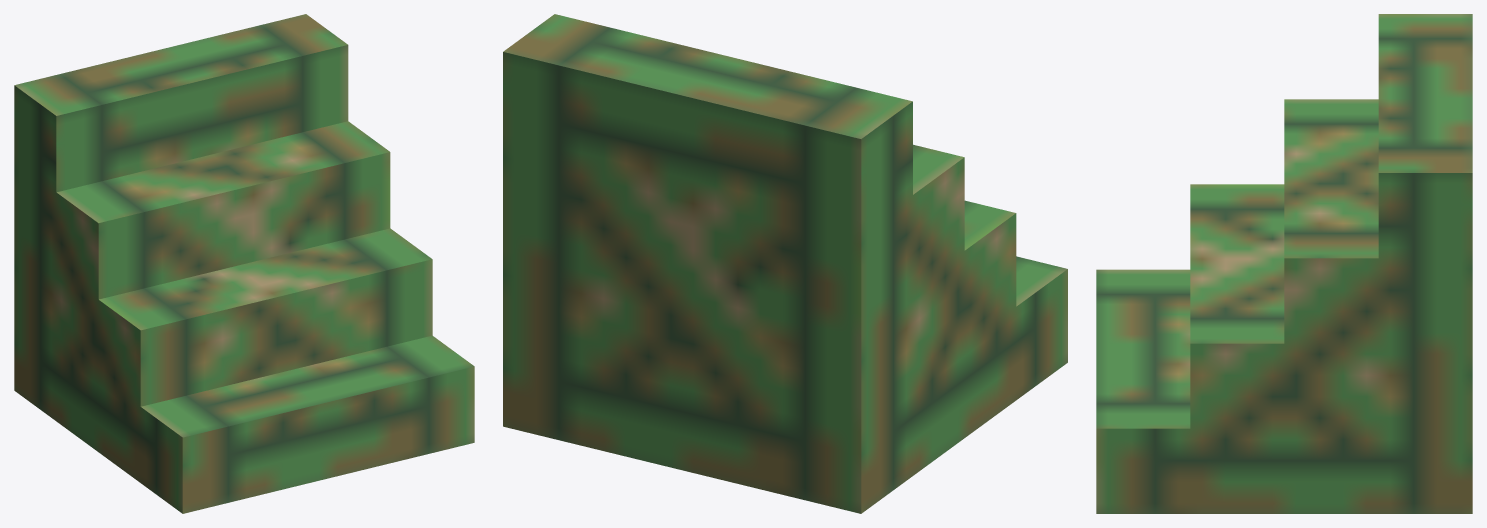
File: cube-stairs-4px-gaps-16x16x16.obj
The picture shows the model from 3 angles, left to right: view 1: azimuth 30°, elevation 25°; view 2: azimuth 150°, elevation 25°; view 3: azimuth 270°, elevation 25°; orthographic projection. The views are drawn at different scales.
Parts seen in each view (by area): view 1: Default; view 2: Default; view 3: Default.
Boxes of the visible parts, x1,y1,x2,y2 form: Default: (14, 14, 474, 513); Default: (503, 14, 1067, 513); Default: (1096, 14, 1472, 513).
Size of the model in its own units: 1 by 1 by 1.
